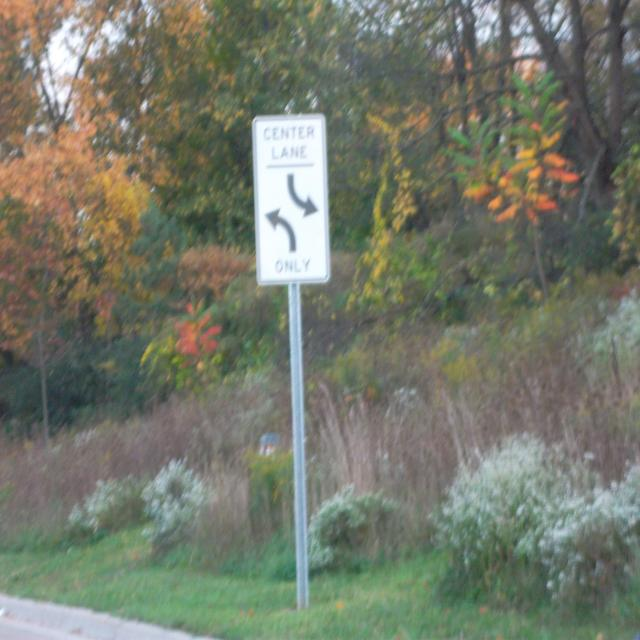regulatory: (250, 111, 332, 287)
